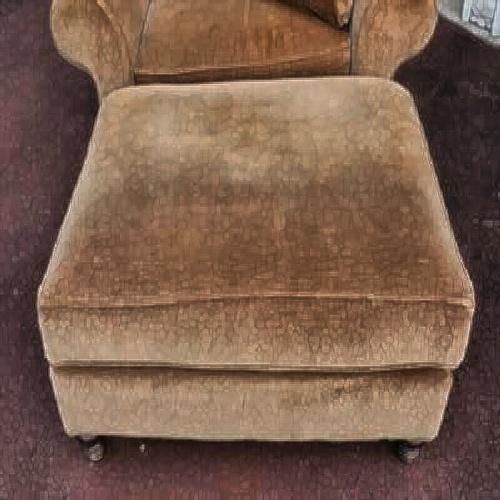chair: (58, 53, 452, 456)
